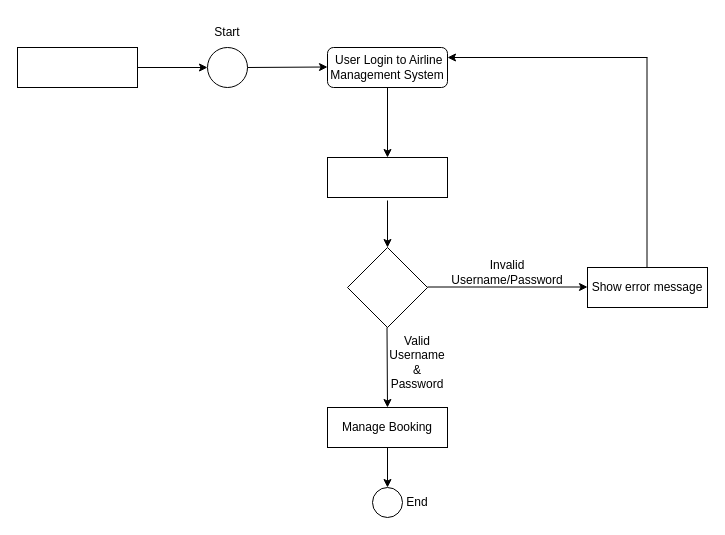
Image size: 725x535. Some labels were removed from this diagram. The shapes that lost their labels are listed below. From the top down, each one's centre as x and y in pixels, then its label:
At [77,67]: "Admin is registered".
At [387,177]: "System checks user permissions".
